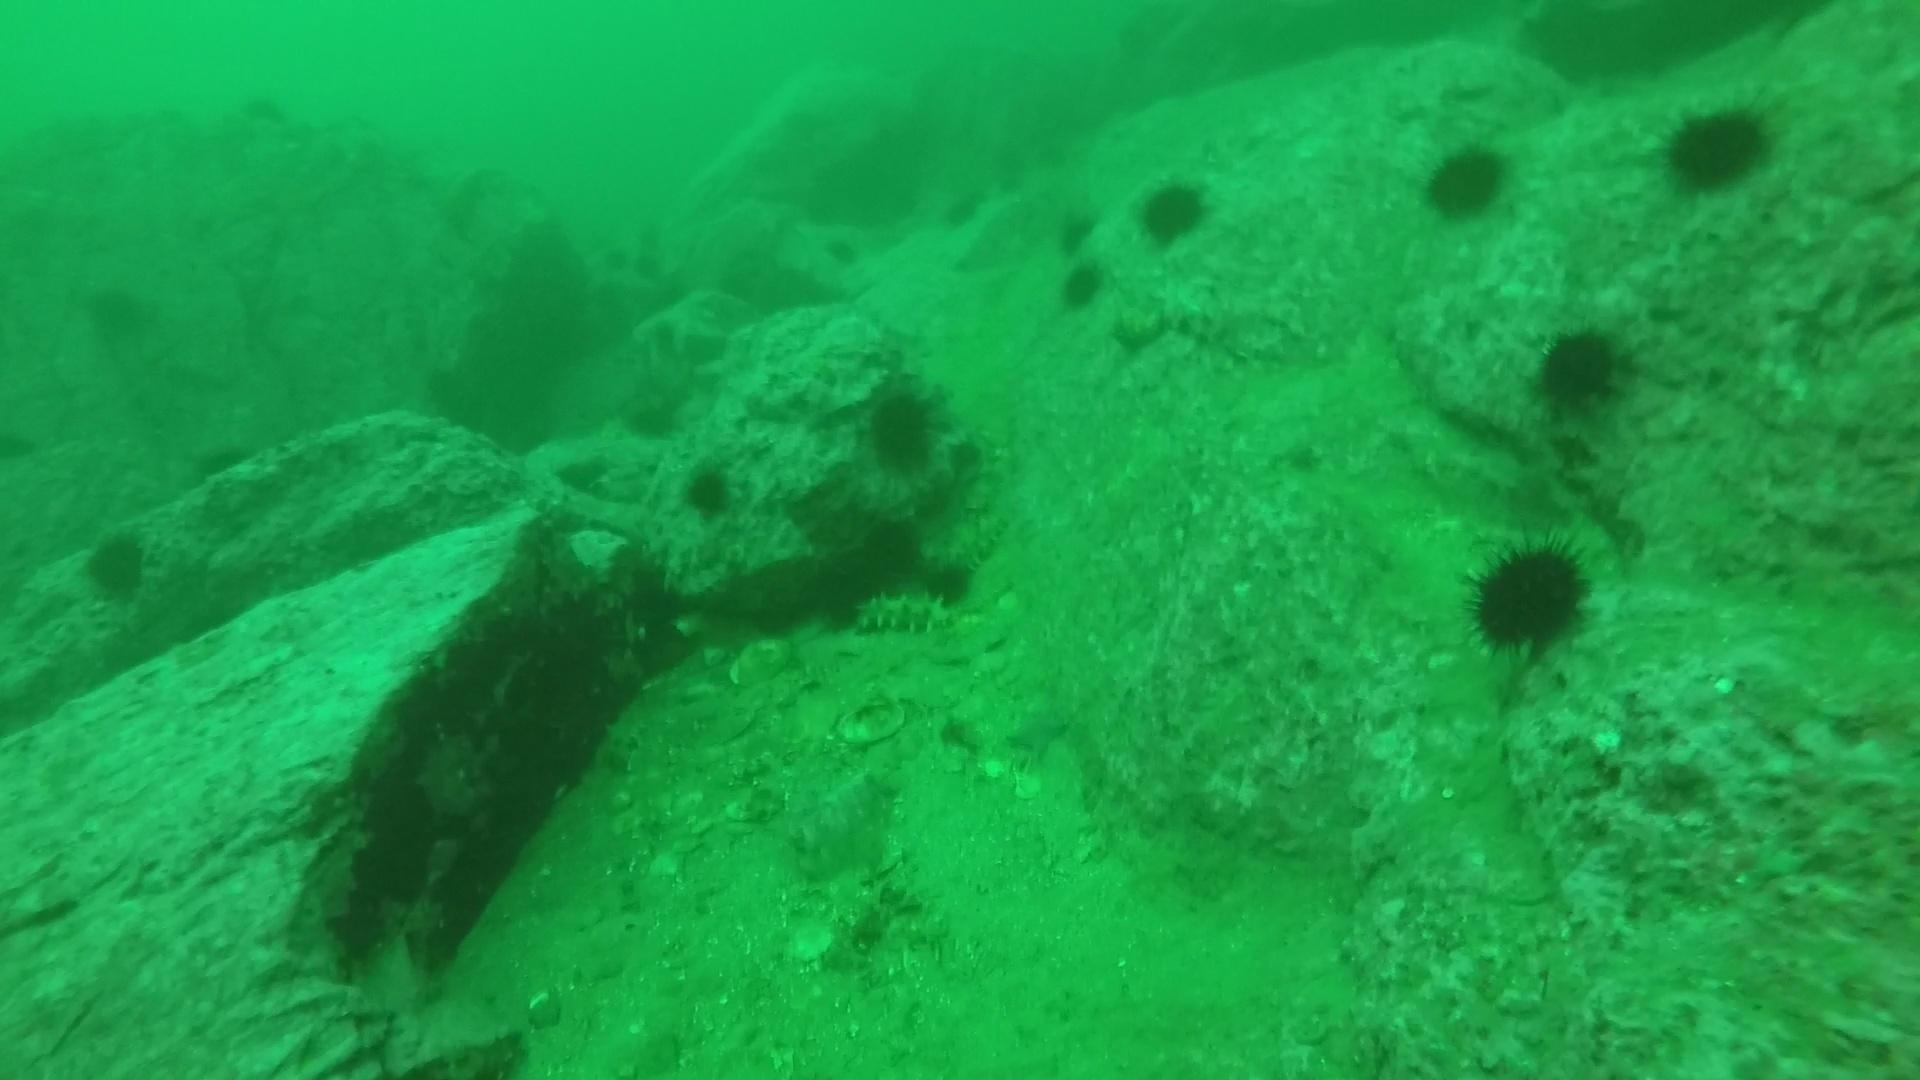echinus: (1458, 531, 1597, 659), (1656, 98, 1778, 198), (1528, 320, 1634, 417), (855, 375, 951, 480), (1418, 138, 1515, 225), (1131, 174, 1215, 251), (79, 526, 157, 604), (79, 277, 158, 347), (676, 459, 742, 524), (911, 553, 981, 613), (618, 385, 688, 444), (189, 438, 255, 492), (1055, 258, 1109, 314), (229, 96, 291, 138), (1051, 203, 1100, 256), (992, 154, 1029, 185), (825, 237, 861, 268), (945, 193, 981, 223), (603, 244, 632, 272), (634, 252, 662, 280), (638, 225, 666, 253), (899, 185, 927, 211)
holothurian: (847, 585, 959, 637), (926, 513, 1010, 574)
starfish: (1002, 699, 1077, 761)
